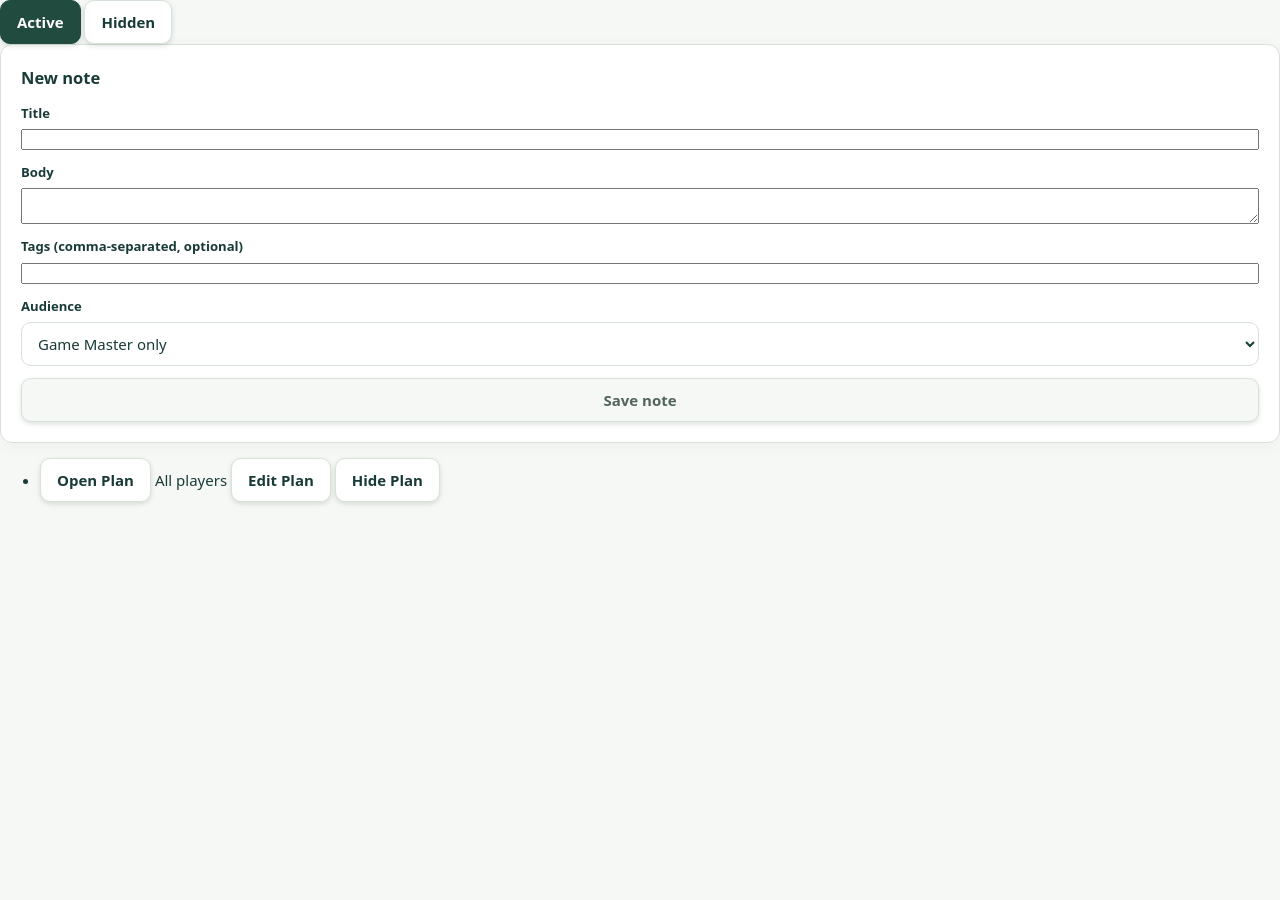
Test: CampaignContentTab list-level Hide › deletes and reloads without retaining a deleted view for recovery
Click the button "Hide Plan" at (387,480), box [335,458,440,502]
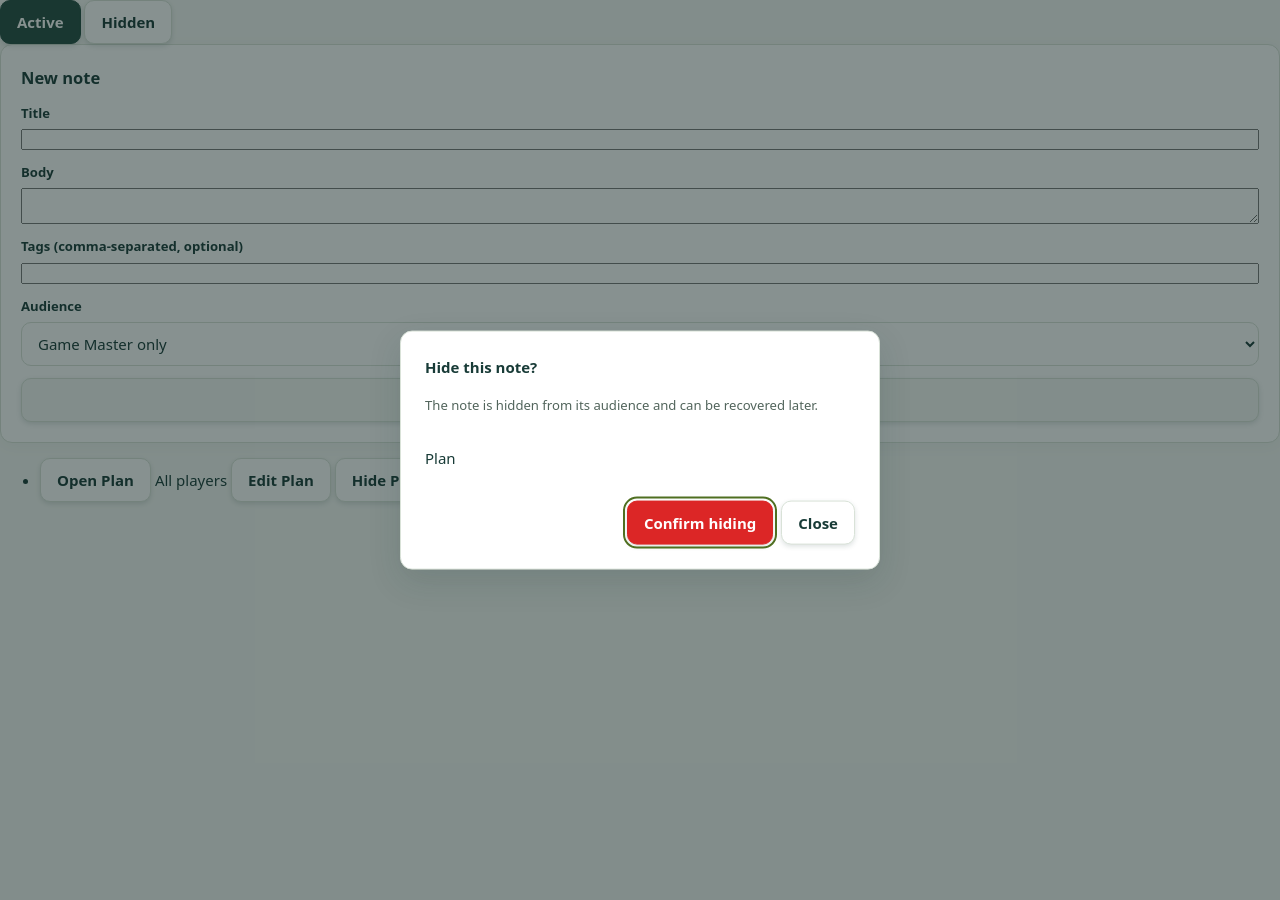
Click the button "Confirm hiding" at (700,522), box [627,500,773,544]
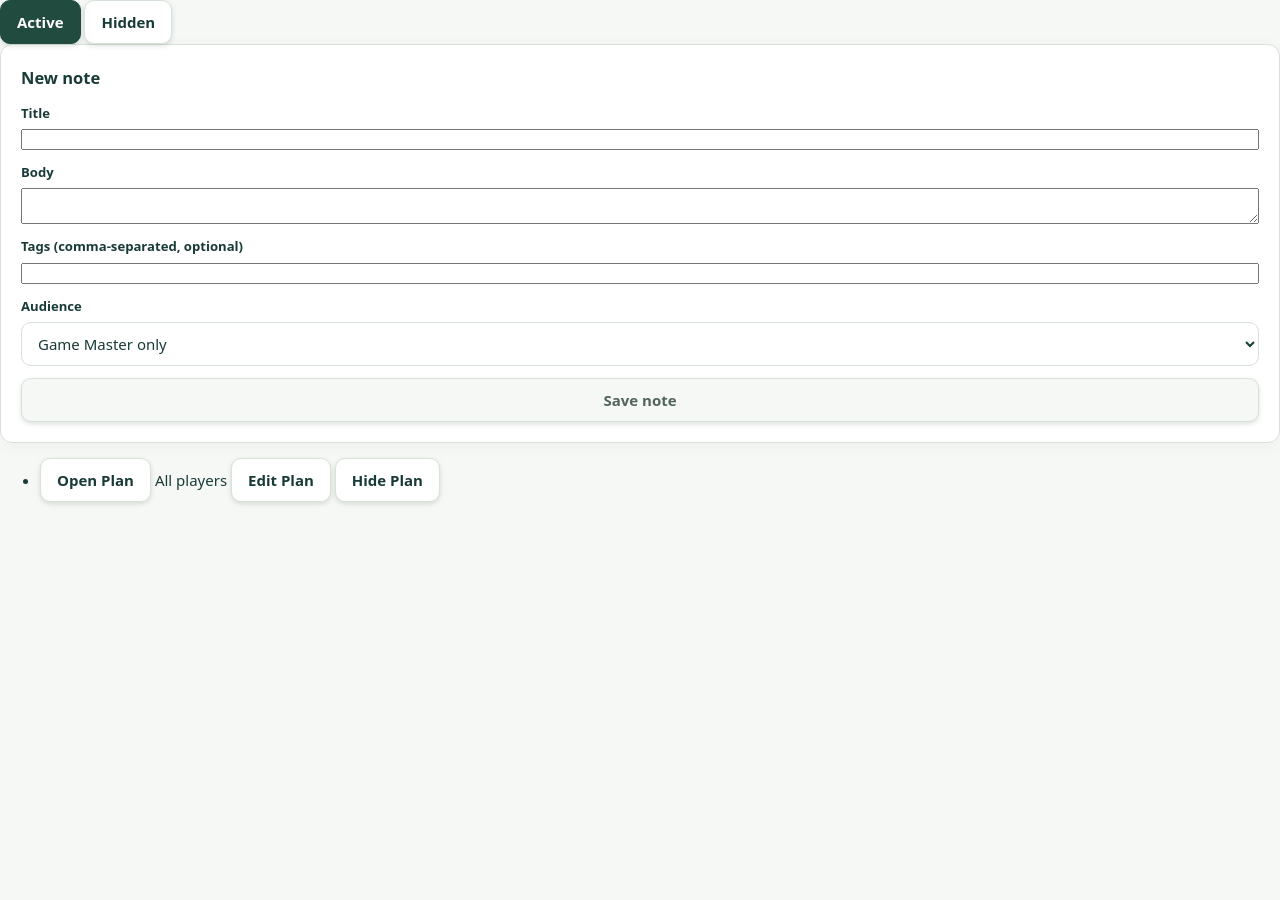
Now the button "Confirm hiding" is gone
